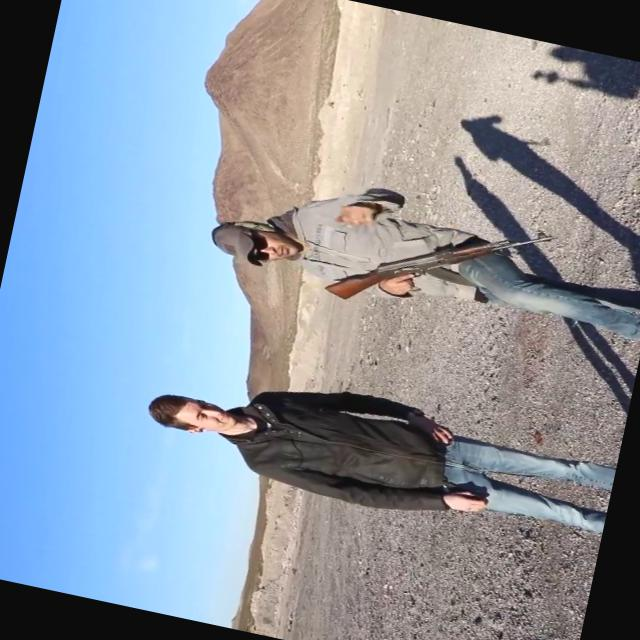long weapon: (313, 172, 562, 350)
